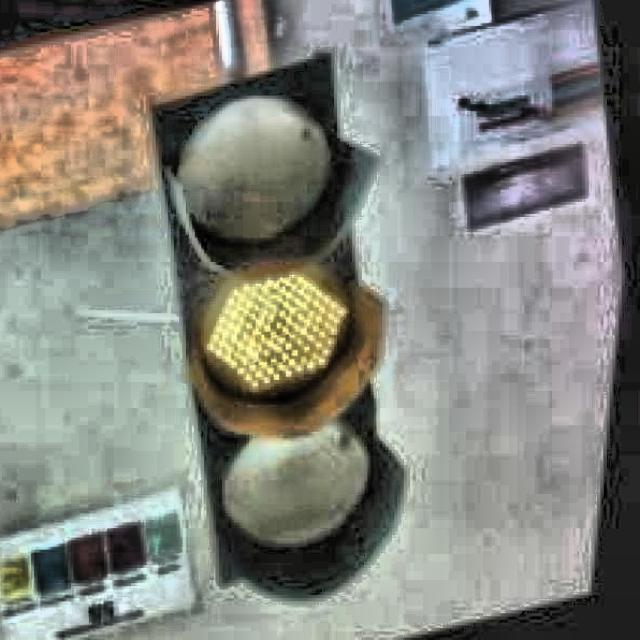yellow: (158, 90, 412, 588)
